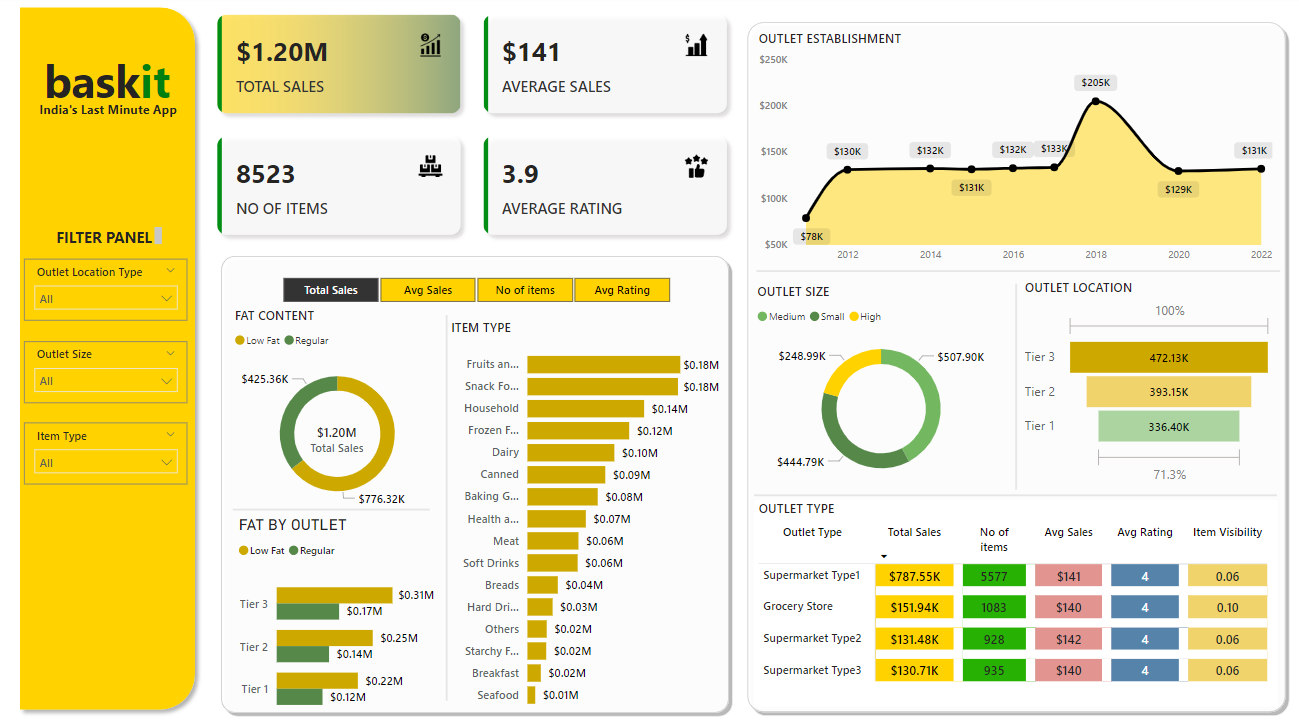

This screenshot's page, from the dashboard's own definition file:
{"tool":"powerbi","page":{"name":"Page 1","canvas":[1400,800],"ordinal":0},"visuals":[{"type":"shape","box":[18.6,4.3,205.7,771.4],"z":0},{"type":"textbox","box":[26.5,53.5,189,87],"z":1000},{"type":"textbox","box":[28.6,108.6,188.6,31.4],"z":2000},{"type":"cardVisual","fields":{"Data":["BlinkIT Grocery Data.Total Sales","BlinkIT Grocery Data.Avg Sales","BlinkIT Grocery Data.No of items","BlinkIT Grocery Data.Avg Rating"]},"box":[222.9,4.3,580,270],"z":3000},{"type":"shape","box":[238.2,275,554.4,500],"z":4000},{"type":"donutChart","title":"FAT CONTENT","fields":{"Y":["BlinkIT Grocery Data.Total Sales"],"Category":["BlinkIT Grocery Data.Item Fat Content"]},"box":[252.9,334.3,230,228.6],"z":5000},{"type":"slicer","fields":{"Values":["Metrics.Metrics"]},"box":[283.8,295.6,464.7,39.7],"z":6000},{"type":"cardVisual","fields":{"Data":["BlinkIT Grocery Data.Total Sales"]},"box":[310.3,438.2,116.2,76.5],"z":7000},{"type":"clusteredBarChart","title":"FAT BY OUTLET","fields":{"Y":["BlinkIT Grocery Data.Total Sales"],"Category":["BlinkIT Grocery Data.Outlet Location Type"],"Series":["BlinkIT Grocery Data.Item Fat Content"]},"box":[257.1,557.1,220,228.6],"z":8000},{"type":"shape","box":[256.7,533.3,211.1,36.7],"z":9000},{"type":"shape","box":[473.3,343.3,24.4,413.3],"z":10000},{"type":"barChart","title":"ITEM TYPE","fields":{"Y":["BlinkIT Grocery Data.Total Sales"],"Category":["BlinkIT Grocery Data.Item Type"]},"box":[485.6,347.8,297.8,427.8],"z":11000},{"type":"shape","box":[802.9,24.3,587.1,750],"z":12000},{"type":"lineChart","title":"OUTLET ESTABLISHMENT","fields":{"Y":["BlinkIT Grocery Data.Total Sales"],"Category":["BlinkIT Grocery Data.Outlet Establishment Year"]},"box":[814.4,37.8,561.1,257.8],"z":13000},{"type":"shape","box":[817.3,277.3,561.8,37.3],"z":14000},{"type":"donutChart","title":"OUTLET SIZE","fields":{"Y":["BlinkIT Grocery Data.Total Sales"],"Category":["BlinkIT Grocery Data.Outlet Size"]},"box":[814.2,308.2,275.7,225.7],"z":15000},{"type":"shape","box":[1090.9,309.2,10,221],"z":16000},{"type":"funnel","title":"OUTLET LOCATION","fields":{"Y":["Sum(BlinkIT Grocery Data.Sales)"],"Category":["BlinkIT Grocery Data.Outlet Location Type"]},"box":[1099.9,303.9,275.7,225],"z":17000},{"type":"shape","box":[815.5,517.3,560.9,38.2],"z":18000},{"type":"pivotTable","title":"OUTLET TYPE","fields":{"Rows":["BlinkIT Grocery Data.Outlet Type"],"Values":["BlinkIT Grocery Data.Total Sales","BlinkIT Grocery Data.No of items","BlinkIT Grocery Data.Avg Sales","BlinkIT Grocery Data.Avg Rating","Avg(BlinkIT Grocery Data.Item Visibility)"]},"box":[814.5,541.8,561.8,221.8],"z":19000},{"type":"slicer","fields":{"Values":["BlinkIT Grocery Data.Outlet Location Type"]},"box":[32.7,282.7,175.5,66.4],"z":20000},{"type":"slicer","fields":{"Values":["BlinkIT Grocery Data.Outlet Size"]},"box":[32.7,371.8,175.5,66.4],"z":21000},{"type":"slicer","fields":{"Values":["BlinkIT Grocery Data.Item Type"]},"box":[32.7,459.1,175.5,66.4],"z":22000},{"type":"textbox","box":[61.1,244.4,123.3,30],"z":23000}]}

Visuals, with their boxes in screenshot pixels (x1, y1, x2, y2), scaled from the page's 1400x800 canvas onto the 1299x727 screenshot:
shape: <region>17, 4, 208, 705</region>
textbox: <region>25, 49, 200, 128</region>
textbox: <region>27, 99, 202, 127</region>
cardVisual - BlinkIT Grocery Data.Total Sales x BlinkIT Grocery Data.Avg Sales: <region>207, 4, 745, 249</region>
shape: <region>221, 250, 735, 704</region>
"FAT CONTENT" donutChart: <region>235, 304, 448, 512</region>
slicer - Metrics.Metrics: <region>263, 269, 695, 305</region>
cardVisual - BlinkIT Grocery Data.Total Sales: <region>288, 398, 396, 468</region>
"FAT BY OUTLET" clusteredBarChart: <region>239, 506, 443, 714</region>
shape: <region>238, 485, 434, 518</region>
shape: <region>439, 312, 462, 688</region>
"ITEM TYPE" barChart: <region>451, 316, 727, 705</region>
shape: <region>745, 22, 1290, 704</region>
"OUTLET ESTABLISHMENT" lineChart: <region>756, 34, 1276, 269</region>
shape: <region>758, 252, 1280, 286</region>
"OUTLET SIZE" donutChart: <region>755, 280, 1011, 485</region>
shape: <region>1012, 281, 1021, 482</region>
"OUTLET LOCATION" funnel: <region>1021, 276, 1276, 481</region>
shape: <region>757, 470, 1277, 505</region>
"OUTLET TYPE" pivotTable: <region>756, 492, 1277, 694</region>
slicer - BlinkIT Grocery Data.Outlet Location Type: <region>30, 257, 193, 317</region>
slicer - BlinkIT Grocery Data.Outlet Size: <region>30, 338, 193, 398</region>
slicer - BlinkIT Grocery Data.Item Type: <region>30, 417, 193, 478</region>
textbox: <region>57, 222, 171, 249</region>
